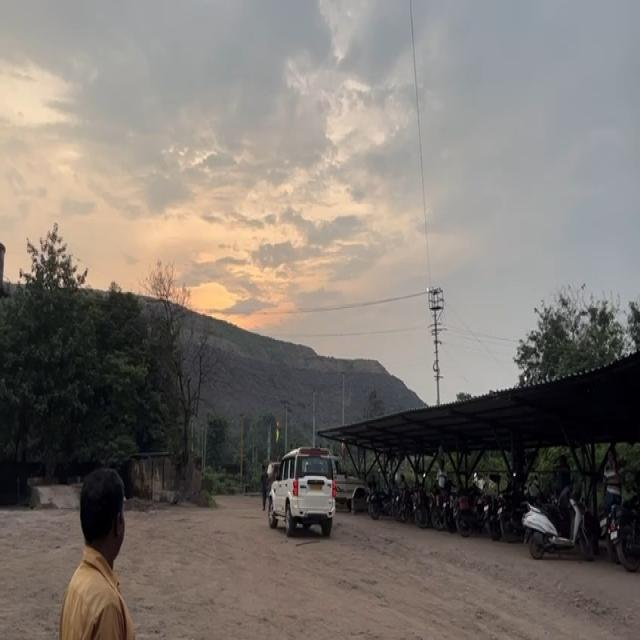light_vehicle: (268, 445, 336, 533), (334, 455, 365, 510)
